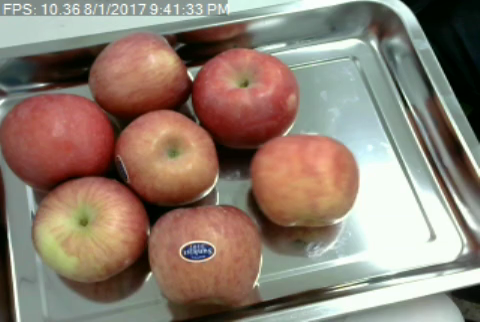Apple: (27, 174, 152, 287), (140, 202, 270, 307), (190, 44, 302, 148), (117, 103, 223, 212), (83, 29, 192, 124), (252, 135, 358, 229), (5, 96, 112, 186)
